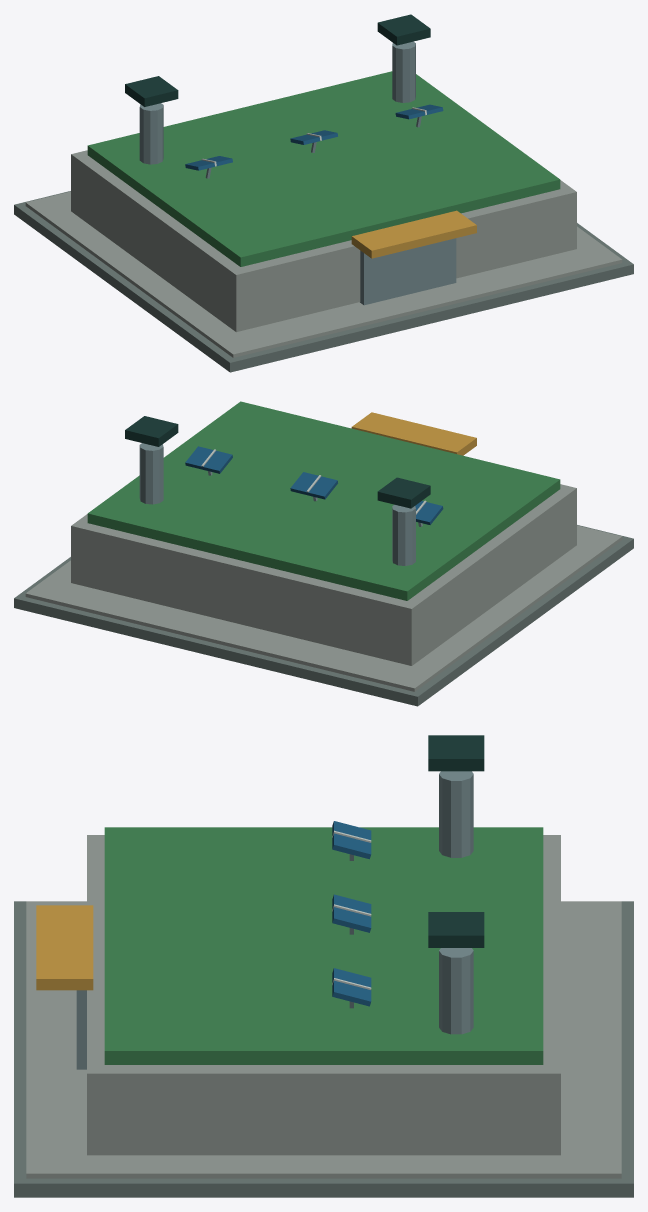
File: shelter_lv2.glb
3 renders of one model, top to bottom at view 1: azimuth 30°, elevation 25°; view 2: azimuth 150°, elevation 25°; view 3: azimuth 270°, elevation 25°, orthographic. The views are drawn at different scales.
Parts seen in each view (by area): view 1: rough, metallic; view 2: rough, metallic; view 3: rough, metallic.
Part boxes in pixels (x1,y1,x2,y2): rough: (14, 14, 633, 372); metallic: (139, 41, 456, 305); rough: (14, 401, 633, 706); metallic: (139, 443, 443, 565); rough: (14, 735, 633, 1197); metallic: (76, 771, 473, 1069).
Size of the model in its own units: 9.6 by 3.5 by 8.9.
